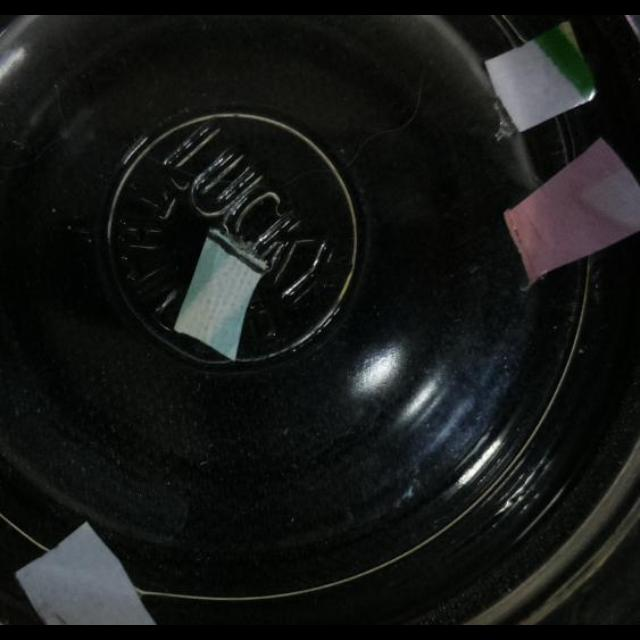Fragment: (504, 134, 640, 288), (14, 522, 166, 622), (167, 226, 269, 360), (485, 22, 597, 136)
